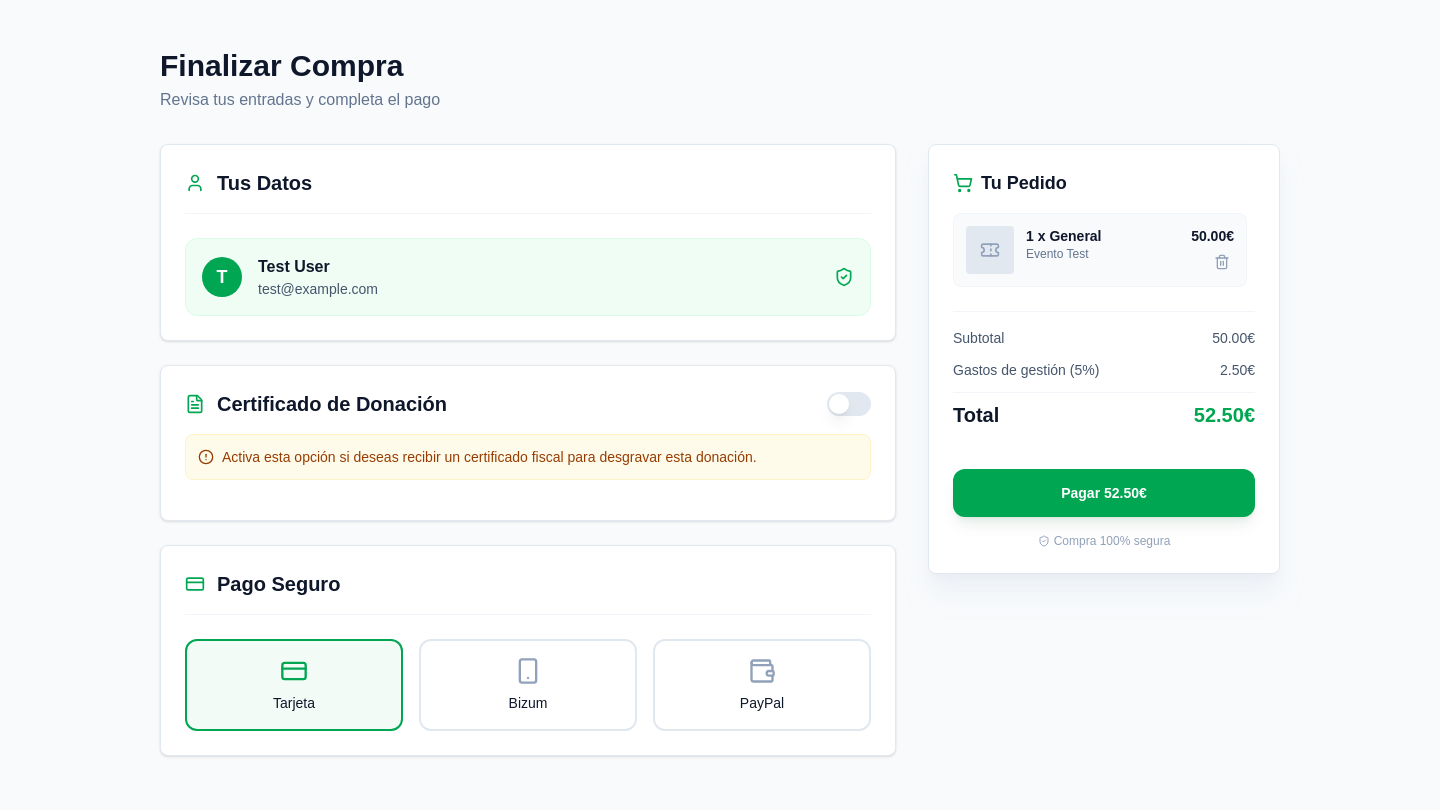
Test: Checkout - Branches Coverage › Pantalla de confirmación › debe mostrar pantalla de confirmación
Click the button "Pagar 52.50€".
click(1104, 493)  # box [953,469,1255,517]
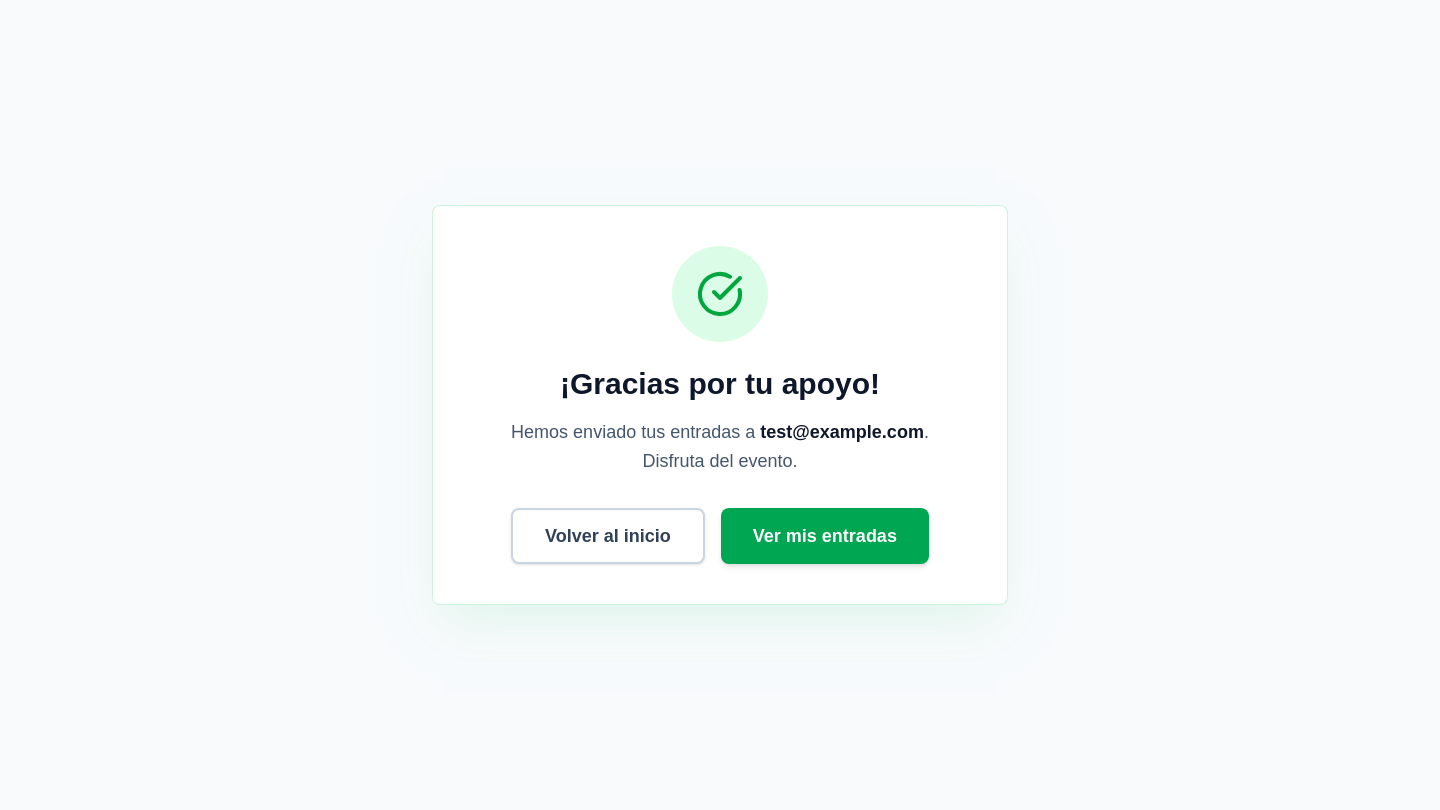
Result: the heading "¡Gracias por tu apoyo!" is shown at [560,367,880,400]
Result: the button "Ver mis entradas" is shown at [721,508,929,564]
